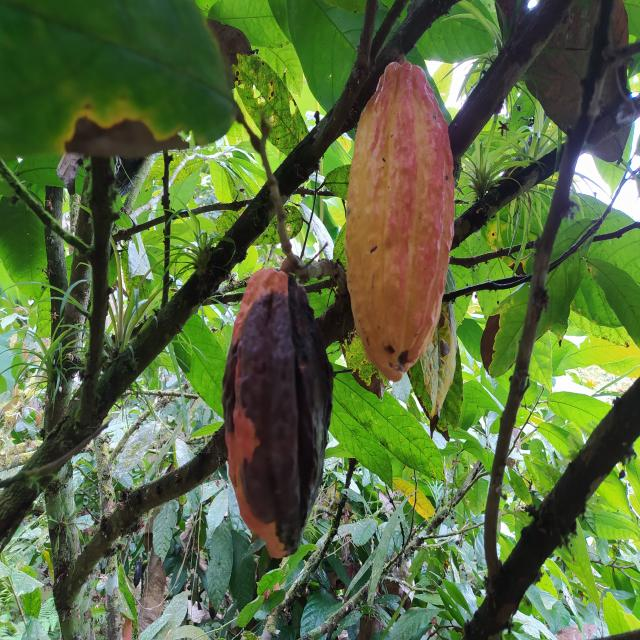Fitoftora: (221, 266, 333, 559)
Sana: (344, 64, 456, 381)
